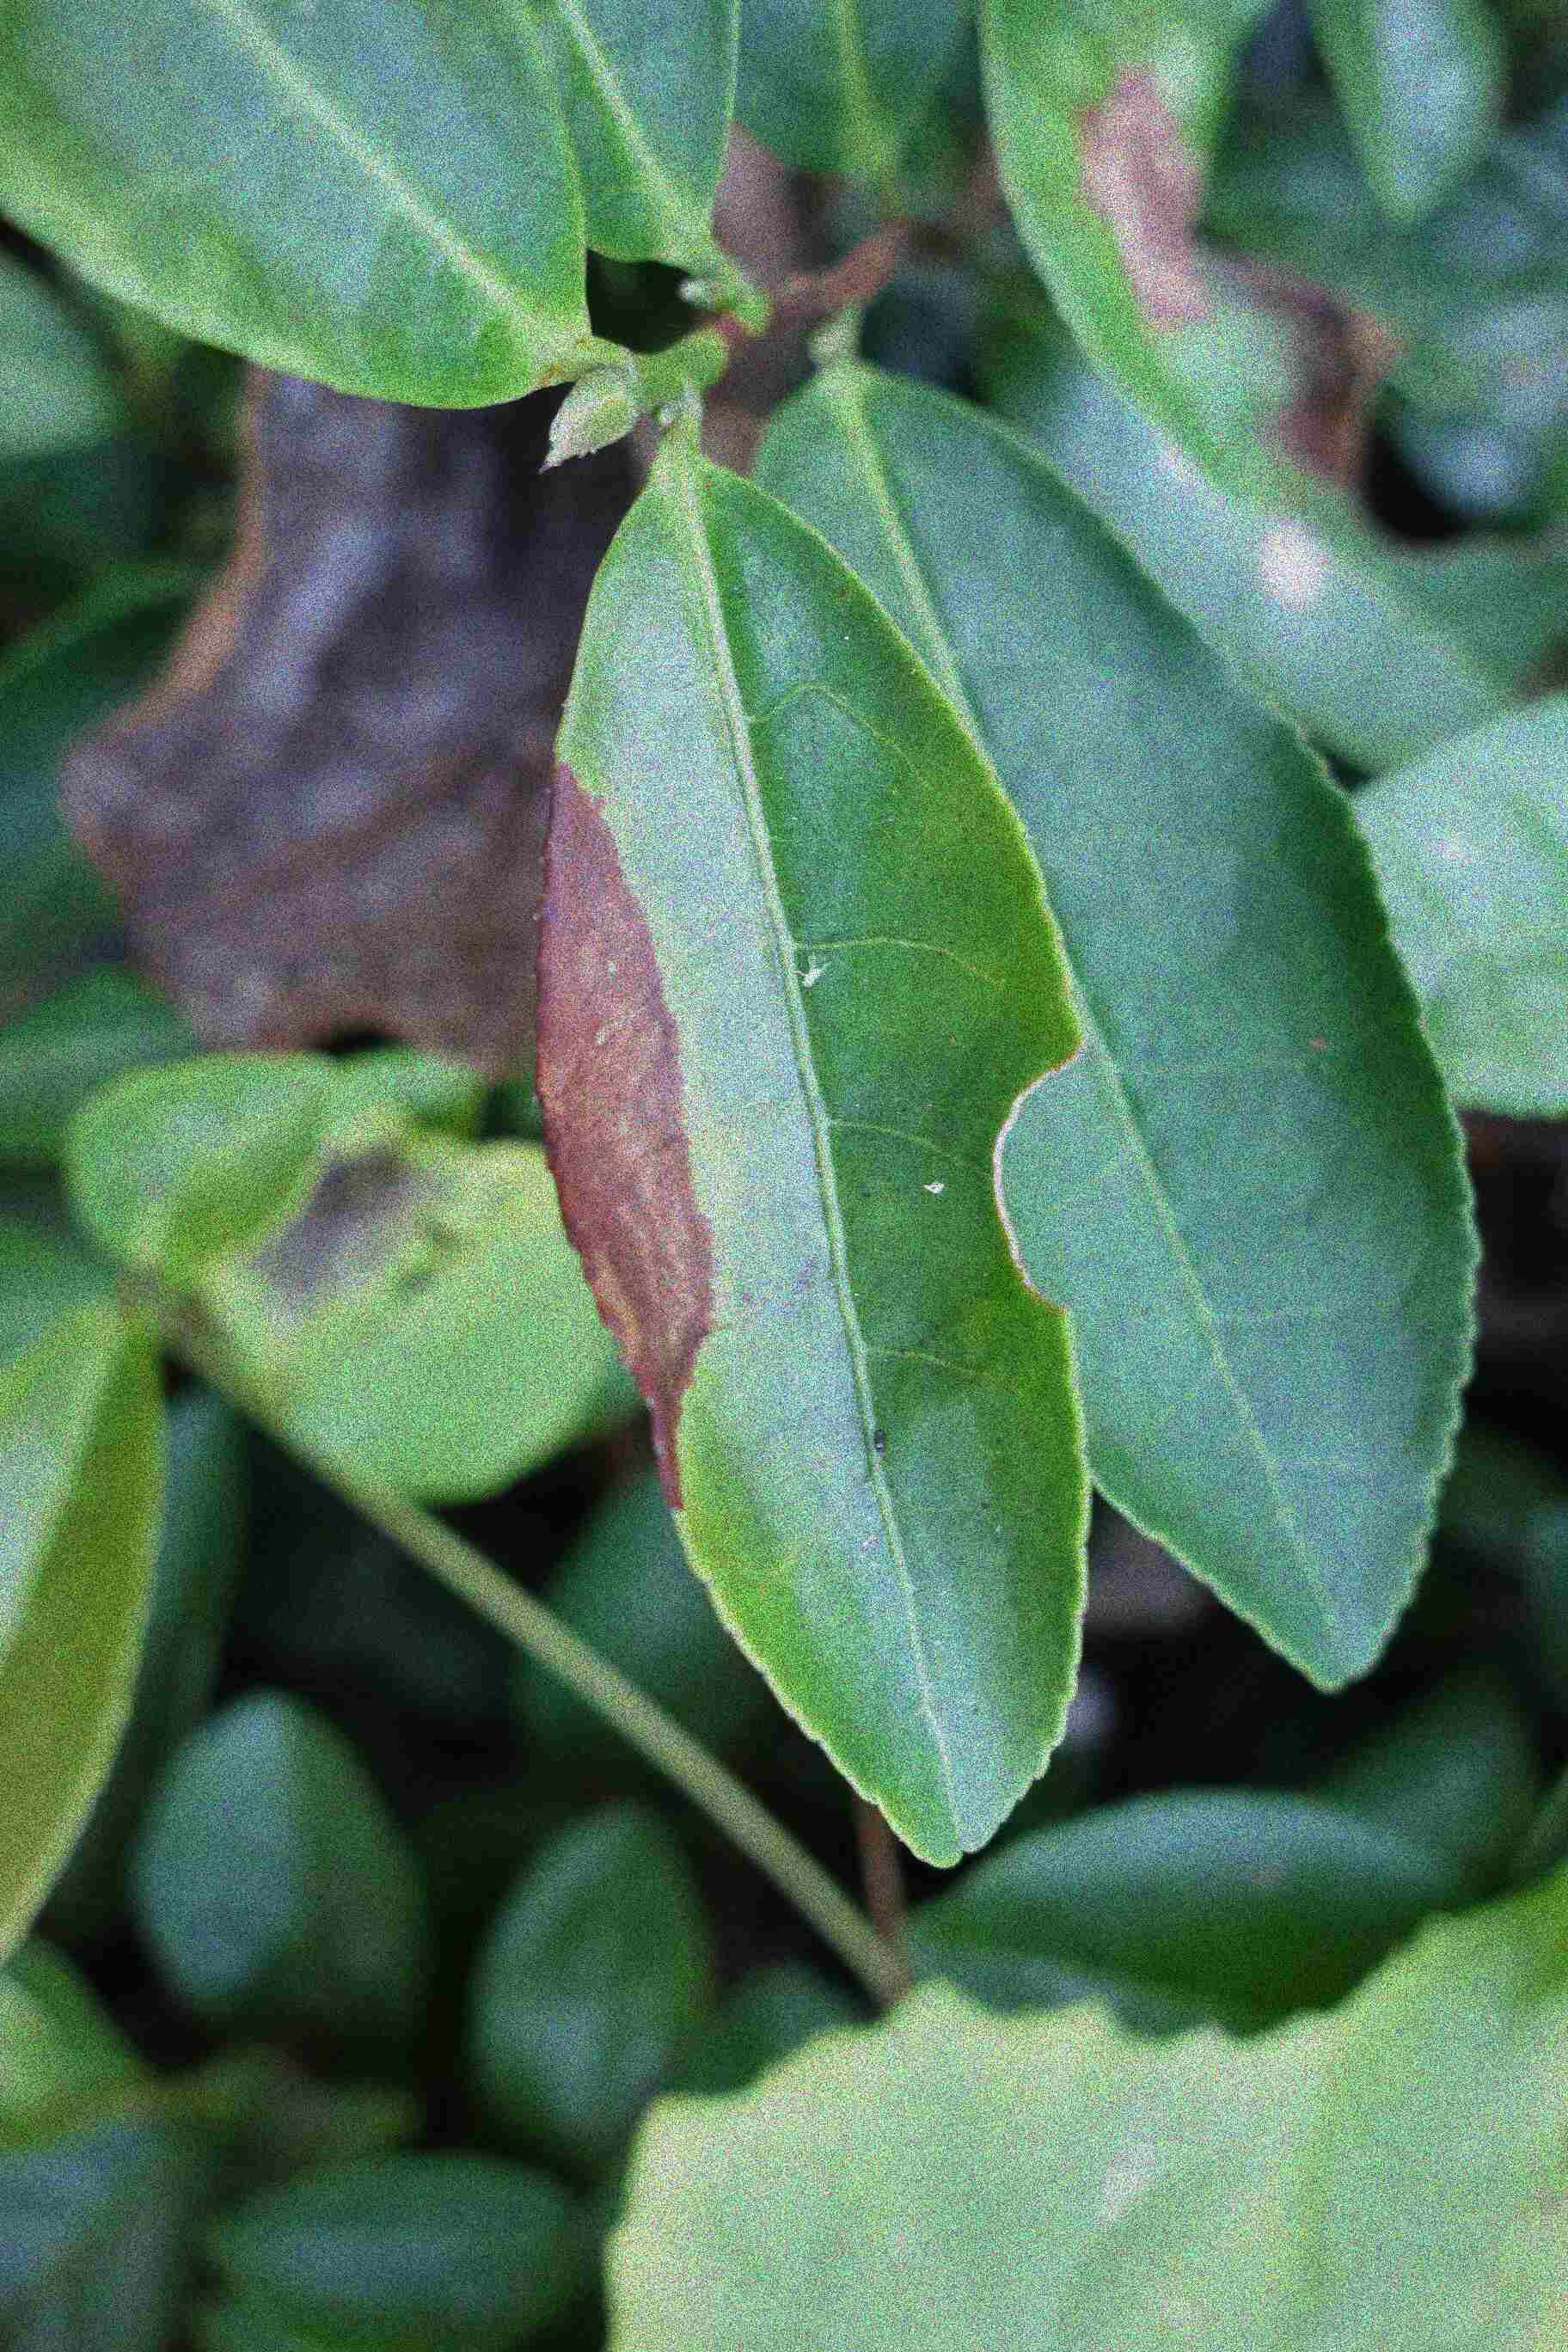tanju_high: (530, 434, 1090, 1869)
